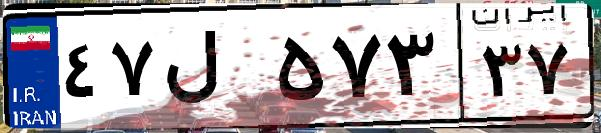3: (385, 28, 445, 110), (475, 38, 525, 113)
4: (57, 26, 110, 100)
5: (270, 28, 330, 110)
7: (330, 28, 385, 110), (525, 38, 570, 115), (110, 28, 158, 98)
ل: (158, 20, 270, 120)
